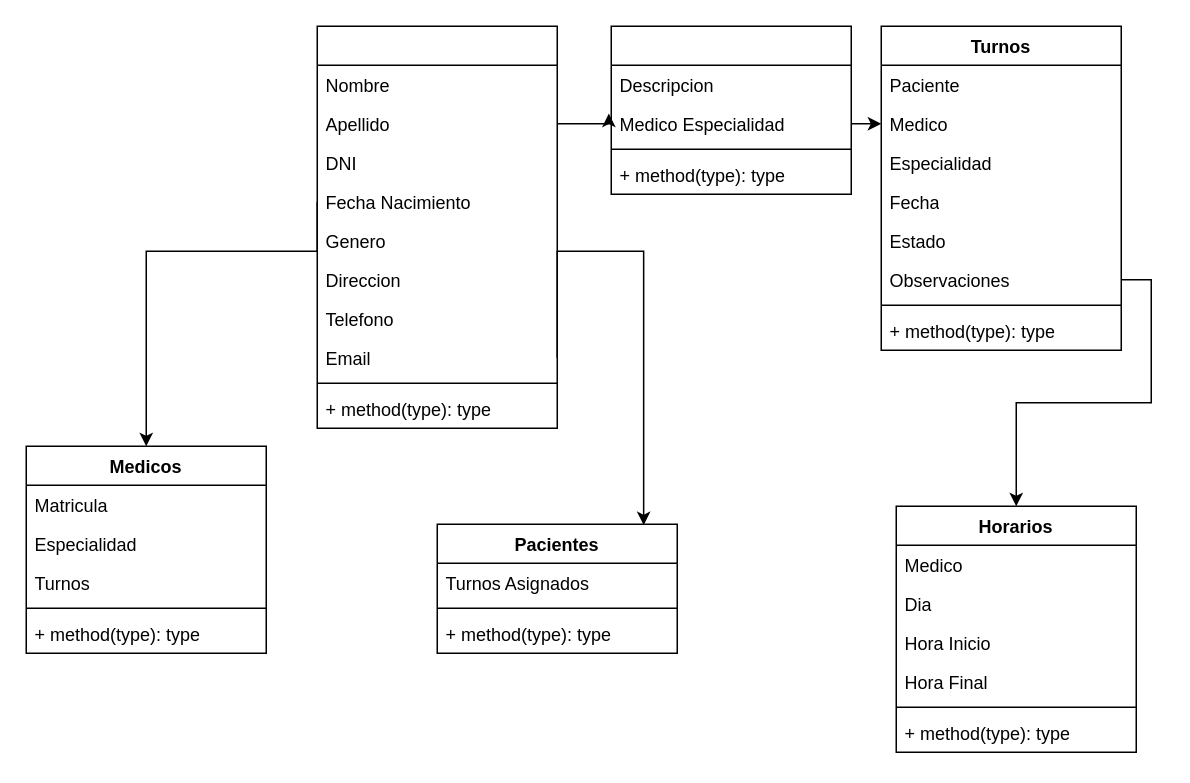
Some shapes in this 1190 by 783 pixel diagram are drawn without their labels. The box of each missing label's shape, as (x1, y1, x2, y2) in pixels:
Especialidades: (610, 25, 851, 194)
Usuarios: (316, 25, 557, 428)
